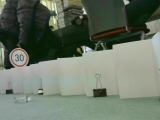speed_30: (8, 47, 30, 69)
